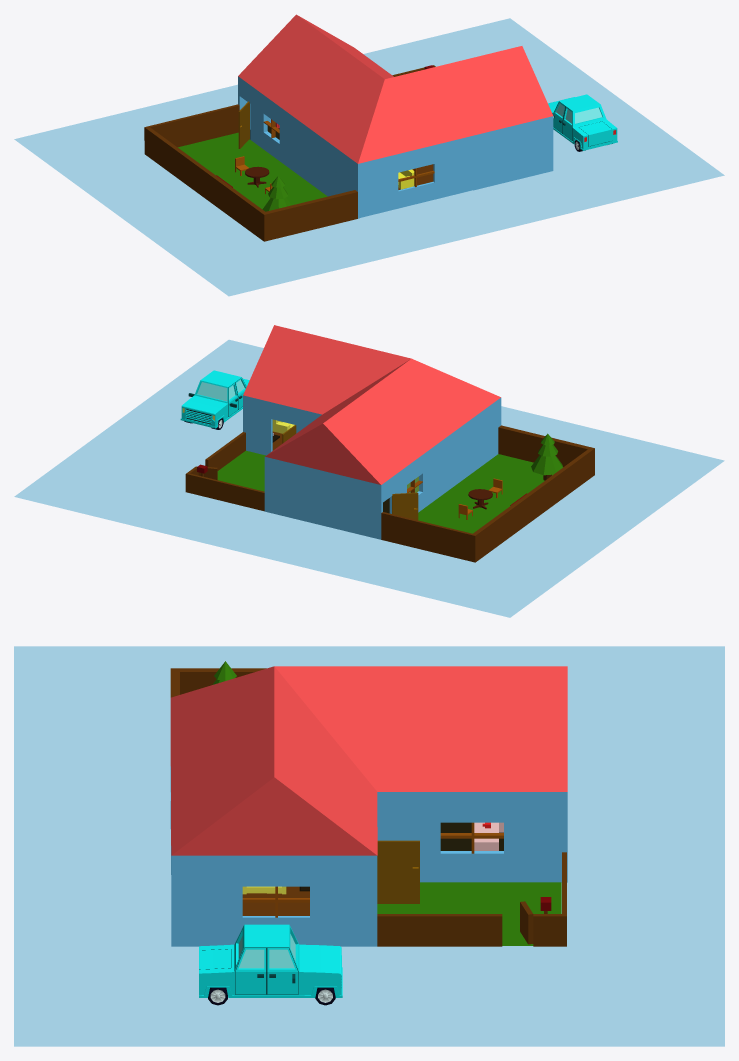
The model's file is Casa.fbx.
3 renders of one model, top to bottom at view 1: azimuth 30°, elevation 25°; view 2: azimuth 150°, elevation 25°; view 3: azimuth 270°, elevation 25°, orthographic. The views are drawn at different scales.
Parts seen in each view (by area): view 1: Suelo, Cube, patio, comedor, Plane.001, living, Plane.004, pino, mesita patio, living.001; view 2: Suelo, Cube, patio, cocina, Plane.001, living, Plane.004, pino, living.001, mesita patio; view 3: Suelo, Cube, living, Plane.004, Plane.001, puerta de entrada, patio, mesada.
Boxes of the visible parts, x1,y1,x2,y2 form: Suelo: (14, 18, 724, 296); Cube: (238, 14, 553, 163); patio: (144, 76, 359, 241); comedor: (360, 136, 472, 217); Plane.001: (178, 126, 433, 209); living: (392, 65, 553, 190); Plane.004: (548, 94, 617, 151); pino: (262, 176, 291, 211); mesita patio: (235, 156, 272, 197); living.001: (238, 101, 249, 148); Suelo: (14, 339, 724, 617); Cube: (243, 325, 500, 484); patio: (379, 397, 594, 562); cocina: (266, 457, 422, 539); Plane.001: (217, 431, 552, 533); living: (185, 395, 321, 511); Plane.004: (180, 370, 249, 429); pino: (531, 433, 563, 480); living.001: (392, 492, 418, 520); mesita patio: (458, 478, 502, 519); Suelo: (14, 646, 724, 1046); Cube: (170, 666, 567, 855); living: (171, 792, 567, 946); Plane.004: (199, 924, 342, 1005); Plane.001: (242, 822, 561, 945); puerta de entrada: (377, 840, 419, 903); patio: (170, 668, 266, 697); mesada: (474, 822, 503, 850).
Size of the model in its own units: 1200 by 240 by 900.
